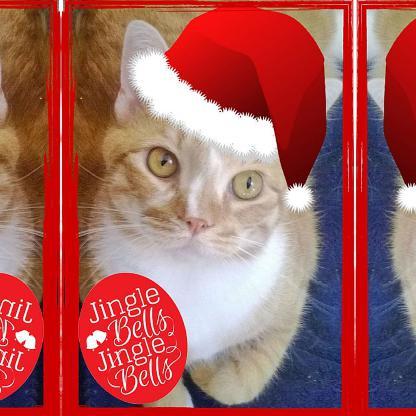Cat: (75, 20, 343, 406)
